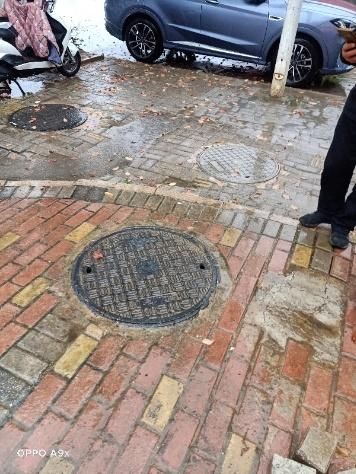wellcover: (65, 217, 252, 322), (198, 142, 279, 189), (9, 97, 86, 136)
